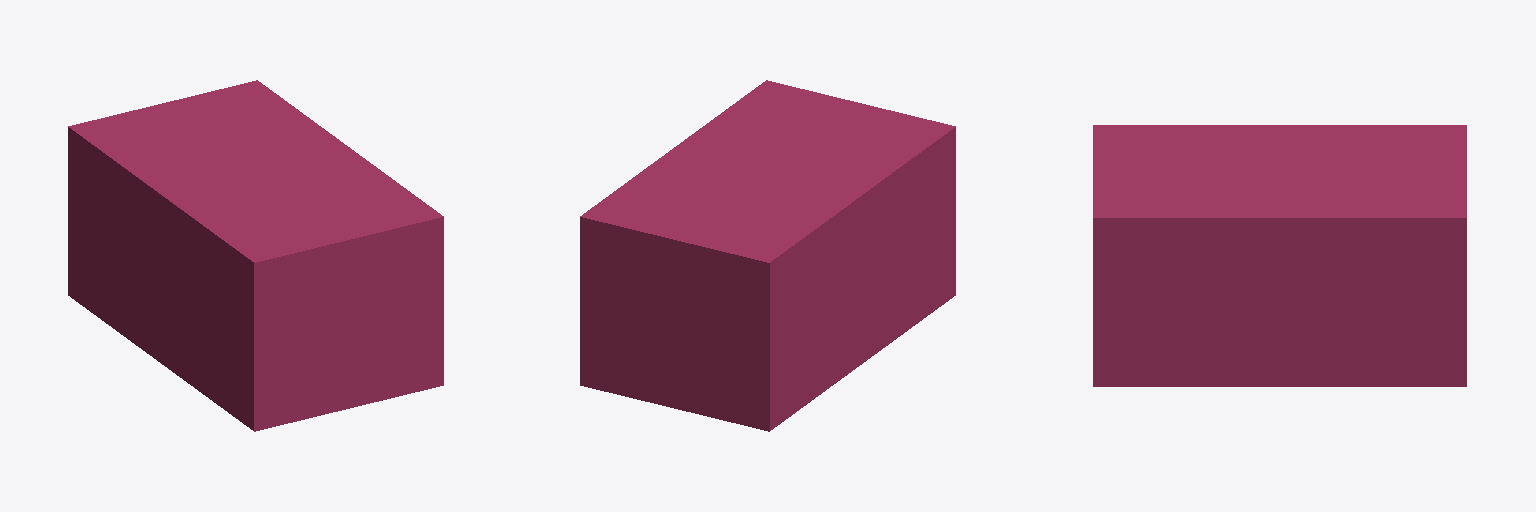
File: oldhouse.obj
3 views of the same model, side by side, from view 1: azimuth 30°, elevation 25°; view 2: azimuth 150°, elevation 25°; view 3: azimuth 270°, elevation 25° (orthographic).
Visible parts, largest first — view 1: Box001; view 2: Box001; view 3: Box001.
Boxes of the visible parts, x1,y1,x2,y2 form: Box001: [68, 80, 443, 431]; Box001: [580, 80, 955, 431]; Box001: [1093, 125, 1466, 386].
Size of the model in its own units: 9.94 by 8.45 by 16.93.